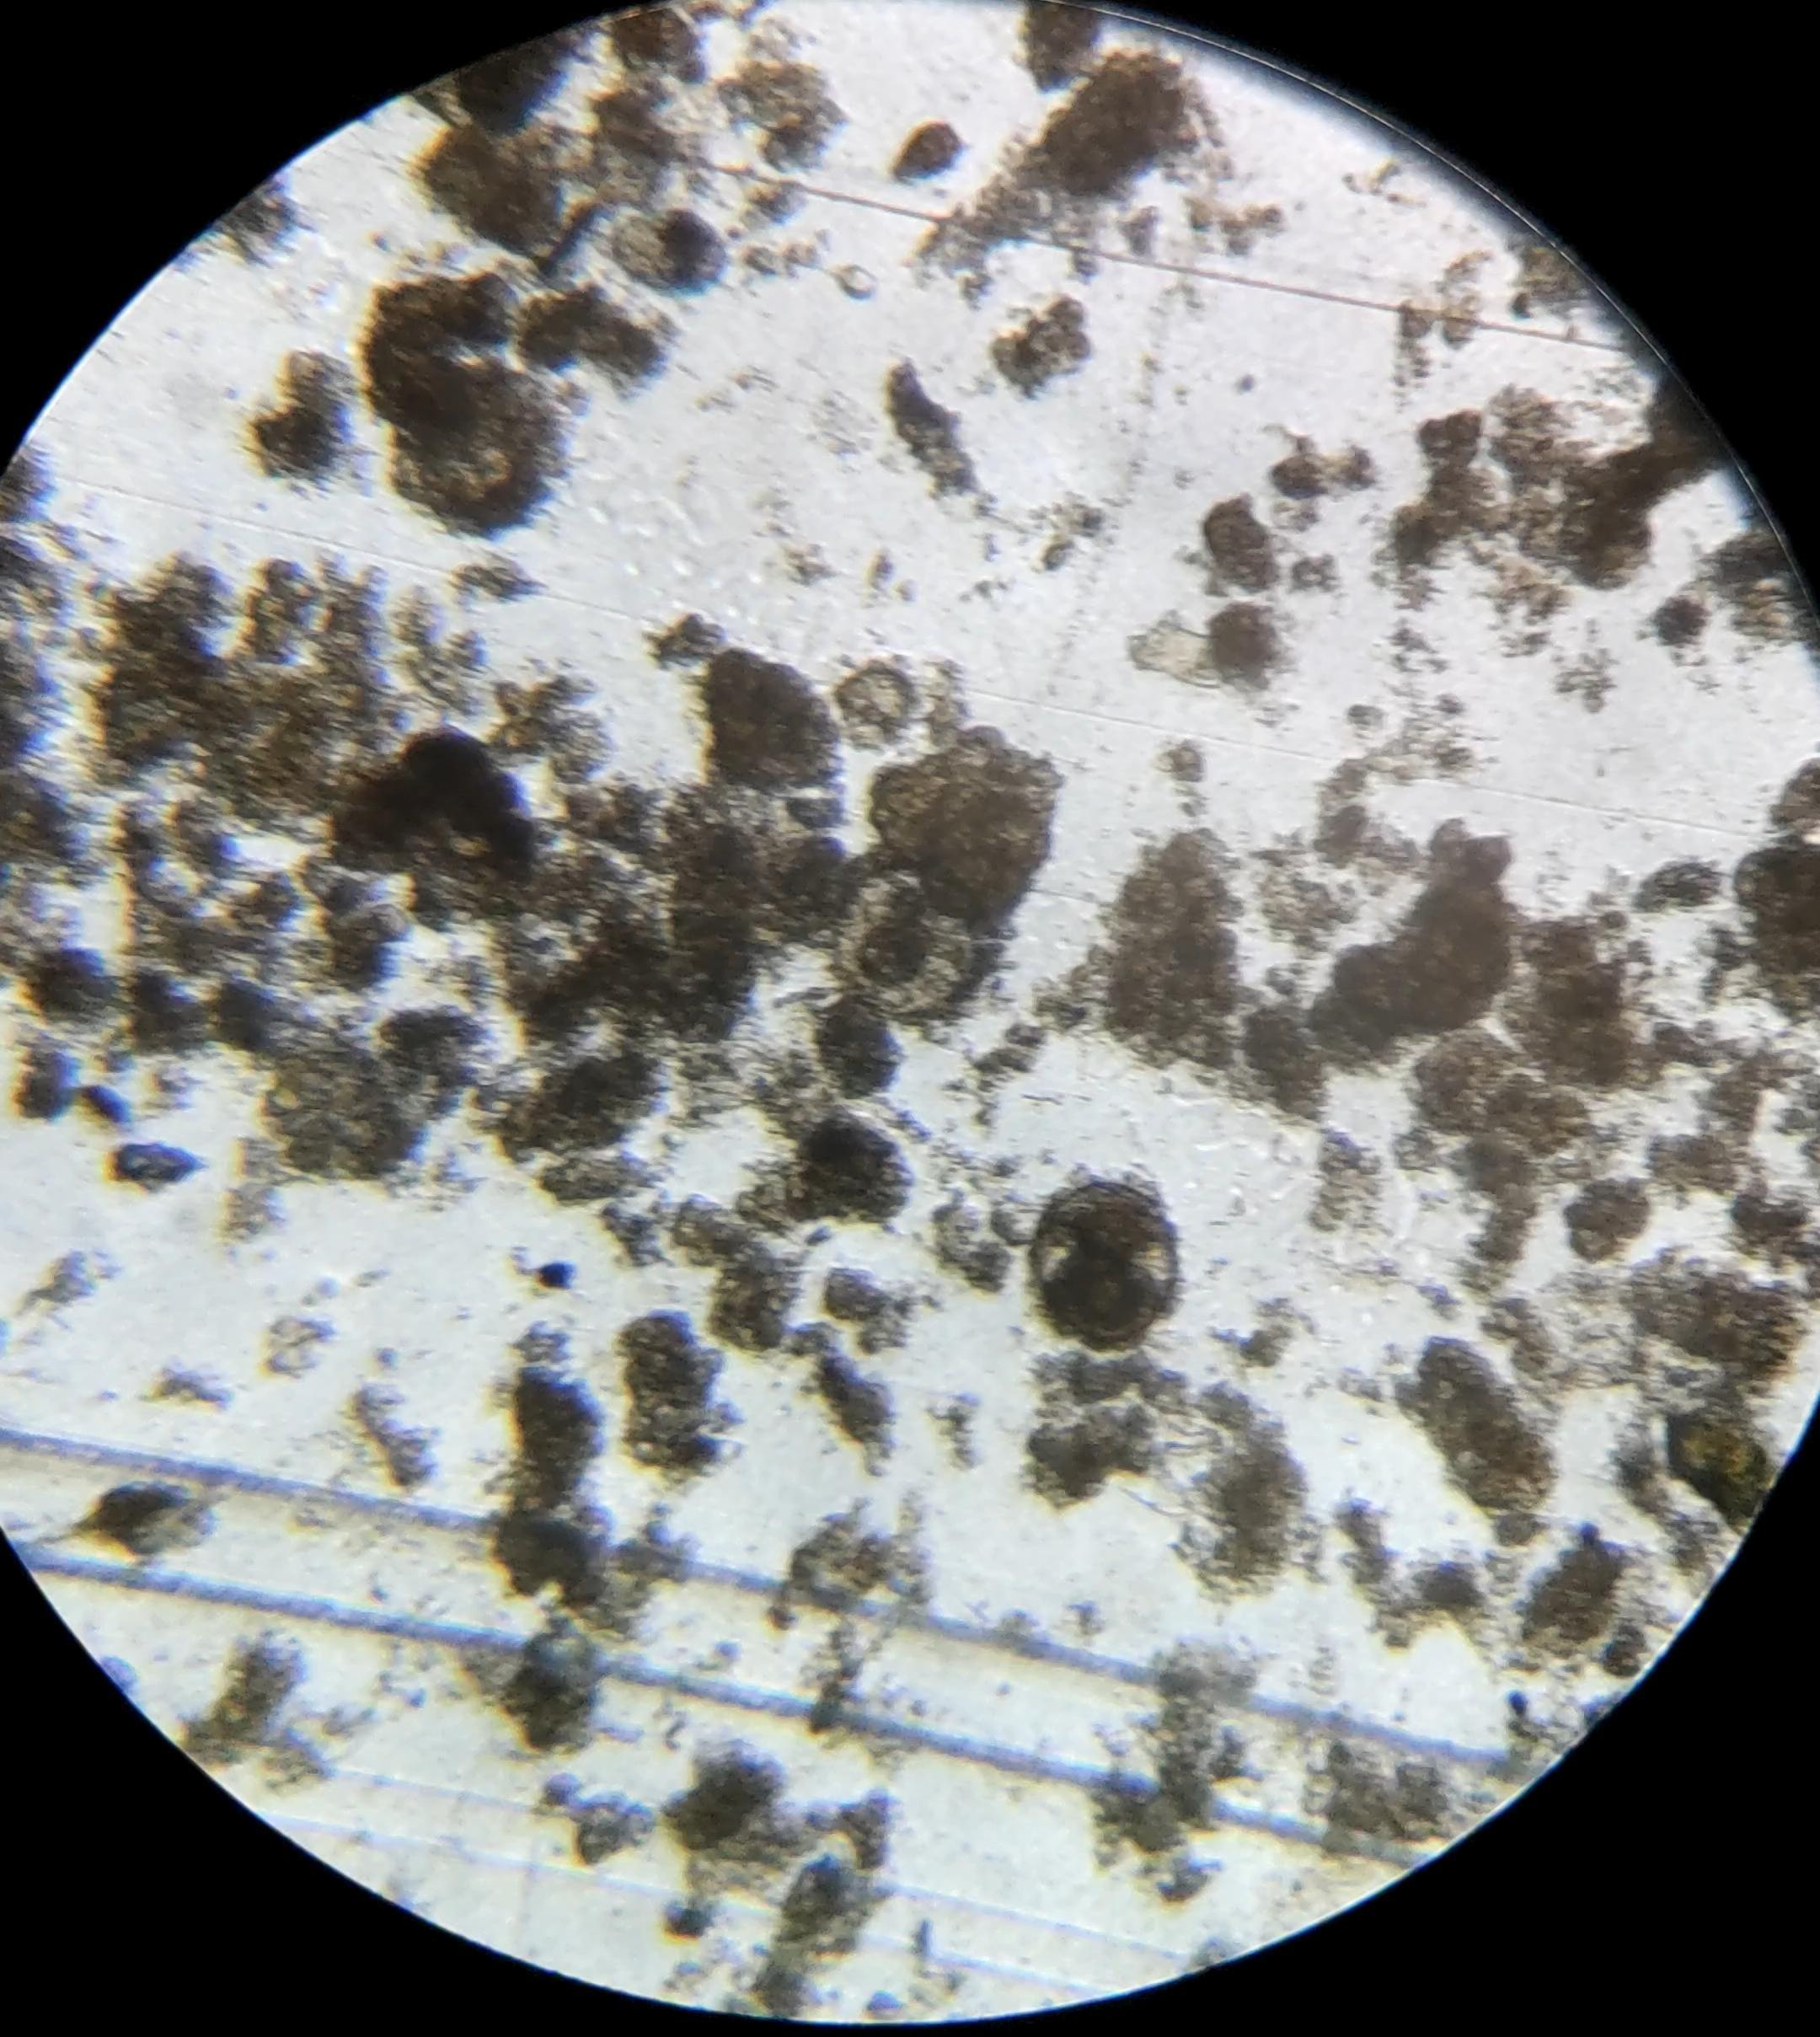Arcella: (1033, 1185, 1177, 1343), (834, 865, 979, 1018)
